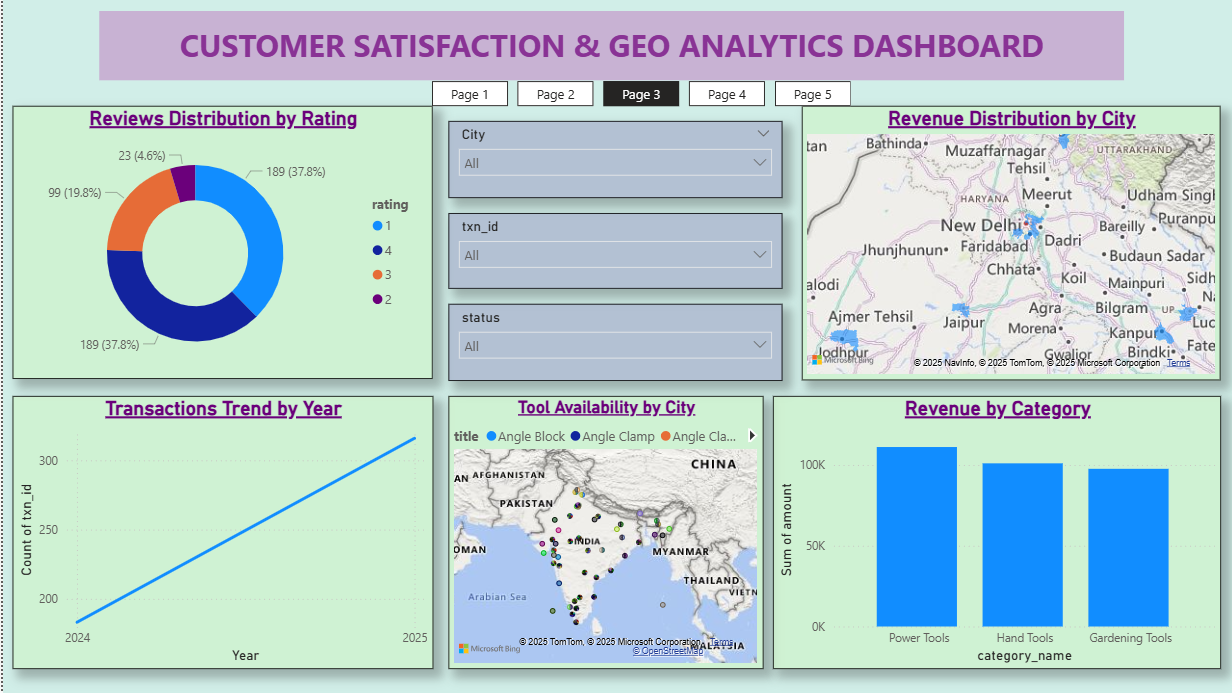

What the dashboard file says about the page in this screenshot:
{"tool":"powerbi","page":{"name":"Page 3","canvas":[1280,720],"ordinal":2},"visuals":[{"type":"donutChart","title":"Reviews Distribution by Rating","fields":{"Y":["Count(Reviews.review_id)"],"Category":["Reviews.rating"]},"box":[10,110,436.7,283.3],"z":0},{"type":"filledMap","title":"Revenue Distribution by City","fields":{"Category":["Locations.City"]},"box":[830,110,435,285],"z":1000},{"type":"lineChart","title":"Transactions Trend by Year","fields":{"Y":["Count(Transactions.txn_id)"],"Category":["Transactions.txn_date.Variation.Date Hierarchy.Year"]},"box":[9.7,411,436.8,283.7],"z":2000},{"type":"map","title":"Tool Availability by City","fields":{"Series":["Tools.title"],"Category":["Locations.City"]},"box":[462.6,411,327.2,283.7],"z":3000},{"type":"lineClusteredColumnComboChart","title":"Revenue by Category","fields":{"Y":["Sum(Transactions.amount)"],"Category":["Categories.category_name"]},"box":[799.4,411,465.8,283.7],"z":4000},{"type":"pageNavigator","box":[446,84,436,26],"z":5000},{"type":"textbox","box":[100,11.7,1065,71.7],"z":6000},{"type":"slicer","fields":{"Values":["Locations.City"]},"box":[463.3,125,346.7,80],"z":7000},{"type":"slicer","fields":{"Values":["Transactions.txn_id"]},"box":[463.3,221.7,346.7,78.3],"z":8000},{"type":"slicer","fields":{"Values":["Reservations.status"]},"box":[463.3,315,346.7,80],"z":9000}]}

Visuals, with their boxes in screenshot pixels (x1, y1, x2, y2), scaled from the page's 1280x720 canvas onto the 1232x693 screenshot:
"Reviews Distribution by Rating" donutChart: (left=10, top=106, right=430, bottom=379)
"Revenue Distribution by City" filledMap: (left=799, top=106, right=1218, bottom=380)
"Transactions Trend by Year" lineChart: (left=9, top=396, right=430, bottom=669)
"Tool Availability by City" map: (left=445, top=396, right=760, bottom=669)
"Revenue by Category" lineClusteredColumnComboChart: (left=769, top=396, right=1218, bottom=669)
pageNavigator: (left=429, top=81, right=849, bottom=106)
textbox: (left=96, top=11, right=1121, bottom=80)
slicer - Locations.City: (left=446, top=120, right=780, bottom=197)
slicer - Transactions.txn_id: (left=446, top=213, right=780, bottom=289)
slicer - Reservations.status: (left=446, top=303, right=780, bottom=380)
